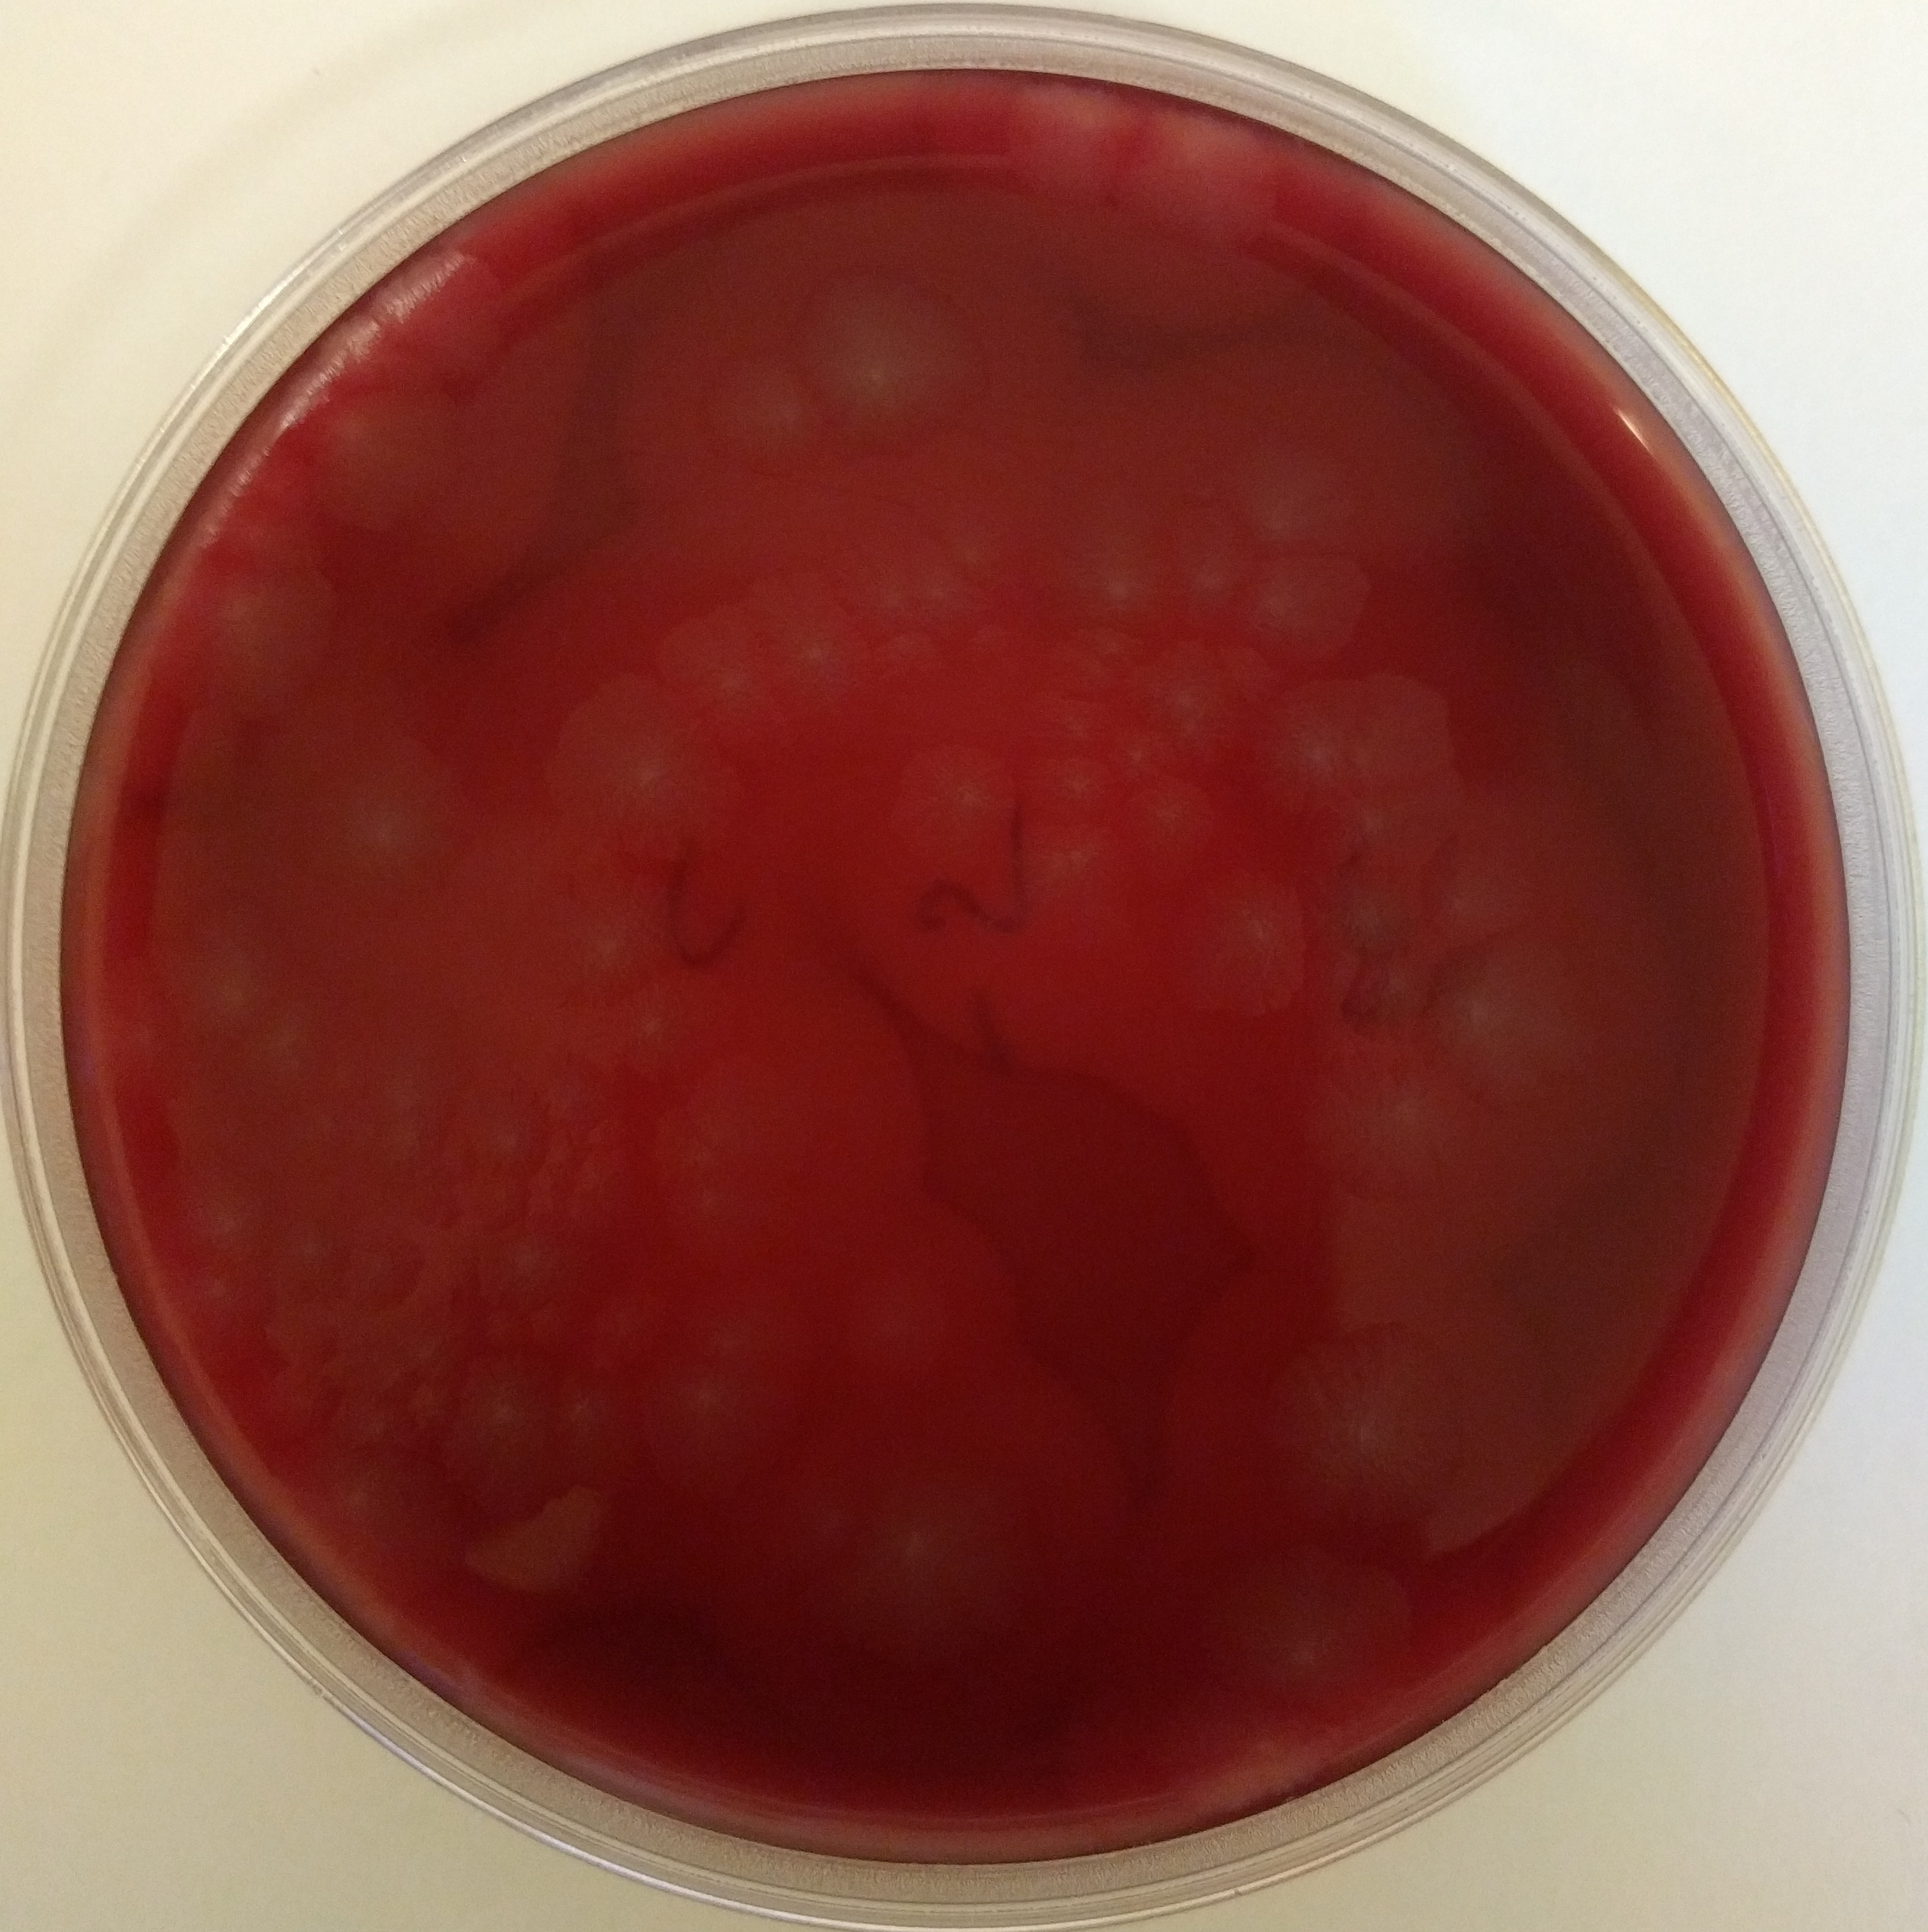sp08: (791, 1411, 1082, 1690), (500, 627, 764, 883), (445, 779, 726, 1003), (1243, 1310, 1490, 1538), (784, 249, 1006, 461), (281, 357, 480, 585), (261, 698, 477, 902), (588, 595, 796, 800), (623, 1287, 819, 1499), (152, 502, 341, 710), (1278, 1014, 1490, 1199), (1213, 655, 1476, 804), (710, 556, 886, 777), (268, 994, 489, 1167), (1416, 927, 1612, 1116), (136, 869, 305, 1074), (1119, 76, 1280, 277), (293, 1420, 454, 1616), (1149, 872, 1331, 1042), (1206, 526, 1386, 678), (690, 314, 844, 484), (1194, 397, 1354, 558), (1278, 759, 1480, 887), (998, 60, 1141, 226), (823, 533, 957, 710), (1042, 472, 1179, 625), (433, 1342, 558, 1510), (561, 952, 719, 1084), (456, 1189, 613, 1316), (870, 740, 1015, 867), (975, 814, 1119, 932), (159, 1162, 305, 1272), (1100, 775, 1245, 867), (1001, 646, 1125, 745), (920, 510, 1019, 625)
